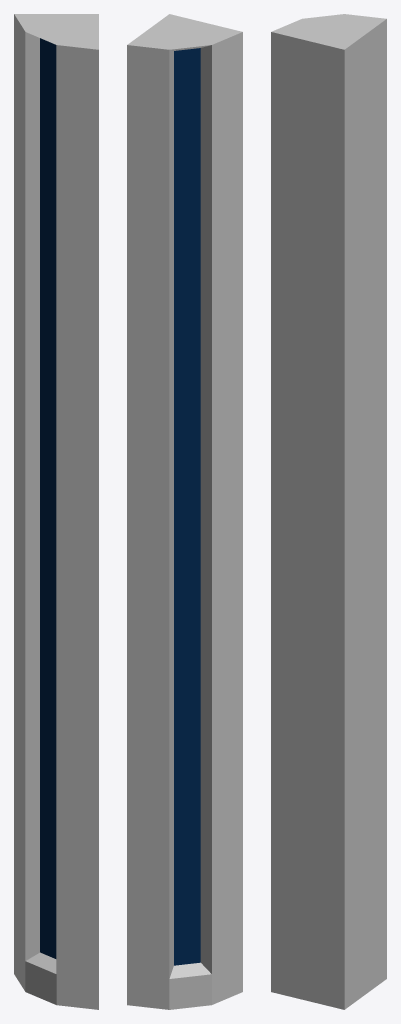
The model's file is Corner_Wall_Middle.fbx.
3 renders of one model, left to right at view 1: azimuth 90°, elevation 25°; view 2: azimuth 150°, elevation 25°; view 3: azimuth 330°, elevation 25°, orthographic.
Parts seen in each view (by area): view 1: Corner_Wall_Middle; view 2: Corner_Wall_Middle; view 3: Corner_Wall_Middle.
Boxes of the visible parts, x1,y1,x2,y2 form: Corner_Wall_Middle: (14, 14, 98, 1009); Corner_Wall_Middle: (127, 14, 242, 1009); Corner_Wall_Middle: (271, 14, 386, 1009).
Size of the model in its own units: 0.2 by 0.2 by 2.5.
